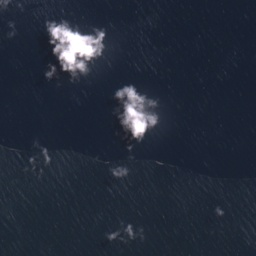Marine Debris: (0, 142, 43, 177), (71, 151, 110, 166), (154, 160, 177, 169)
